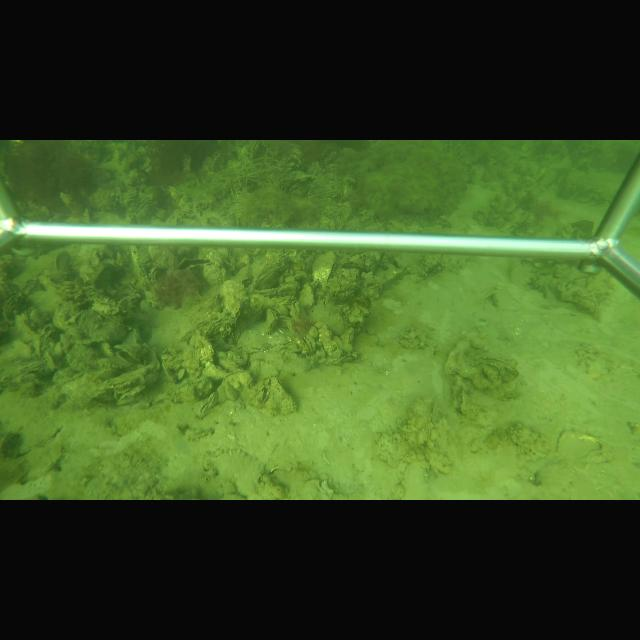Oyster-Closed: (93, 367, 149, 391), (476, 358, 521, 384), (268, 376, 298, 415), (312, 251, 337, 287), (220, 369, 255, 391), (204, 316, 238, 338), (254, 265, 283, 289), (197, 392, 219, 420), (299, 281, 315, 308), (118, 386, 146, 401), (455, 388, 469, 416), (264, 308, 279, 334), (341, 327, 356, 351)
Oyster-Open: (115, 342, 144, 369), (175, 257, 211, 271), (261, 390, 270, 403)
